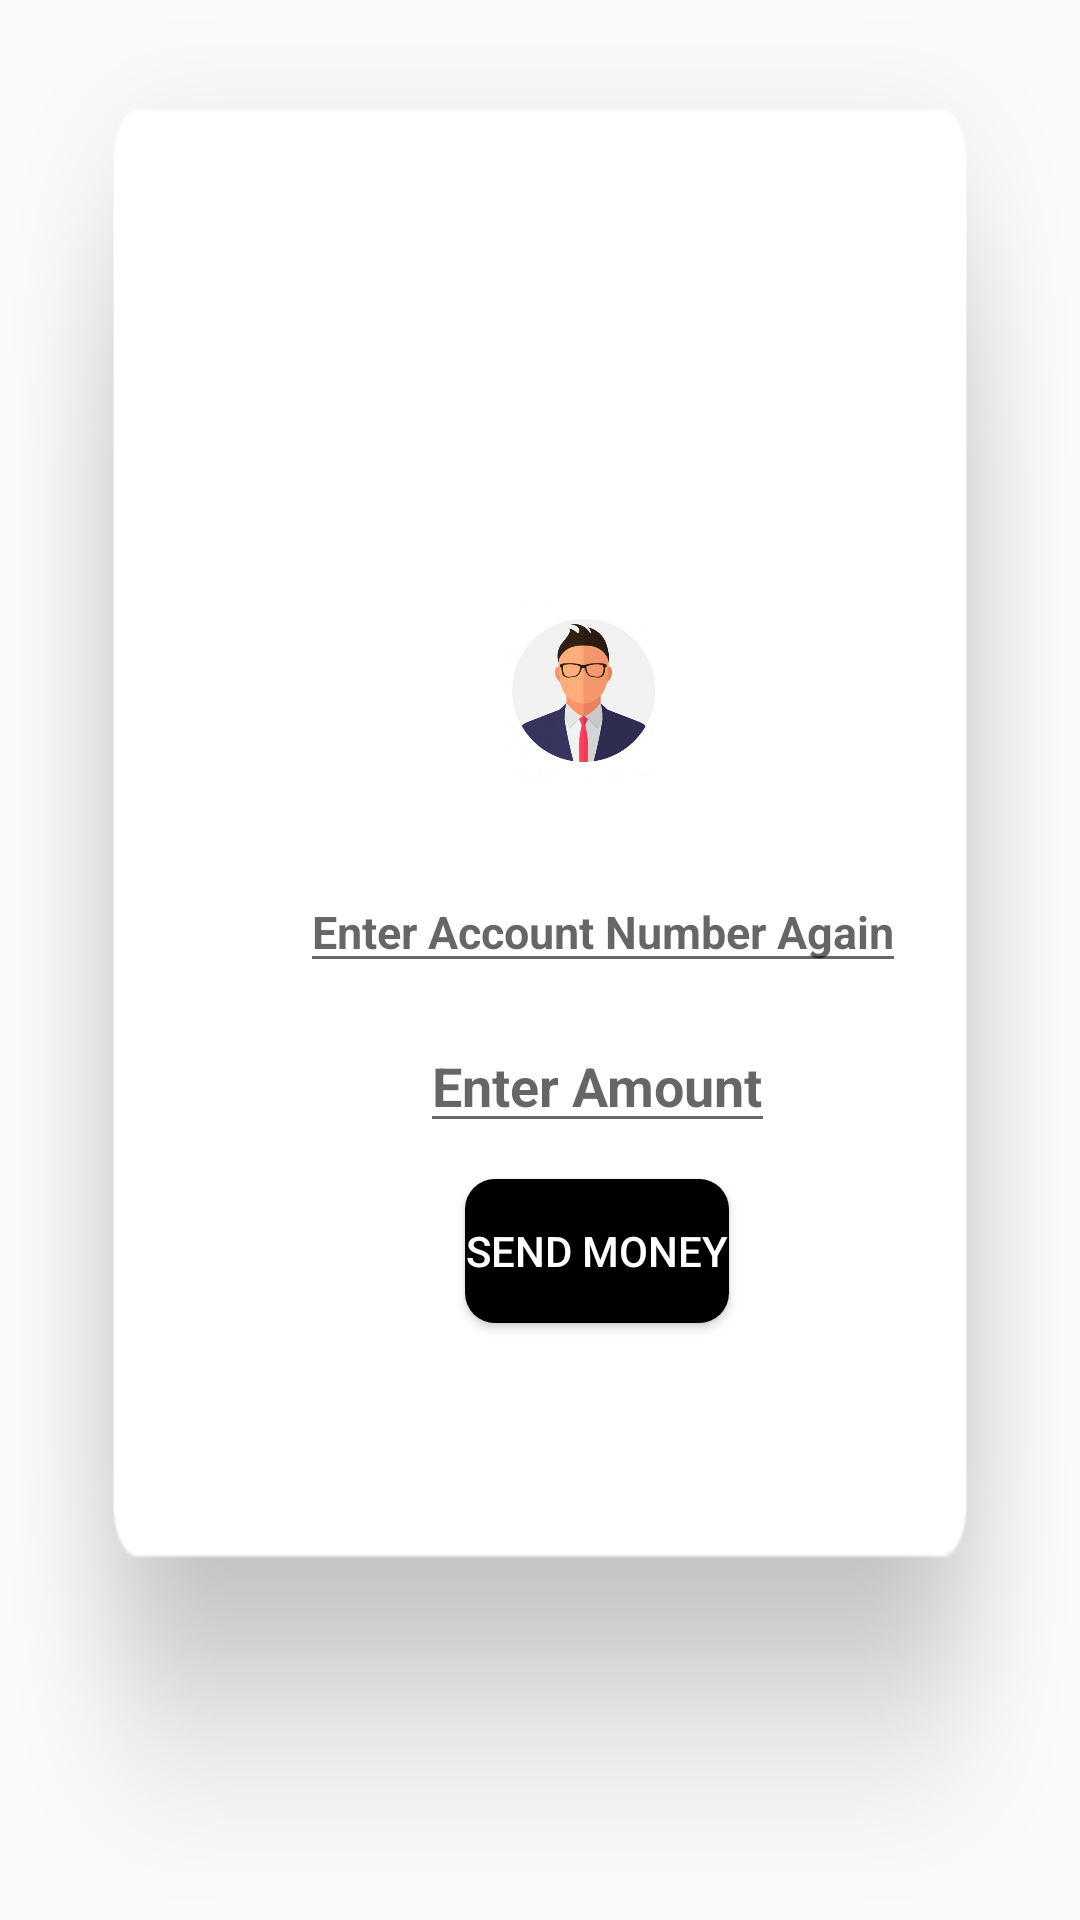

Screen size 1080×1920. Icon name, then its center in pixels as point (x, y):
person: point (583, 691)
